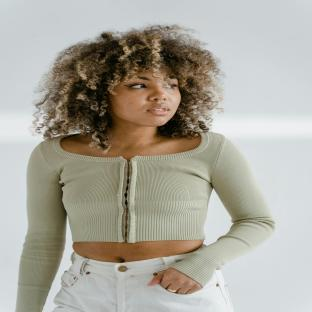Human: (16, 26, 274, 312)
